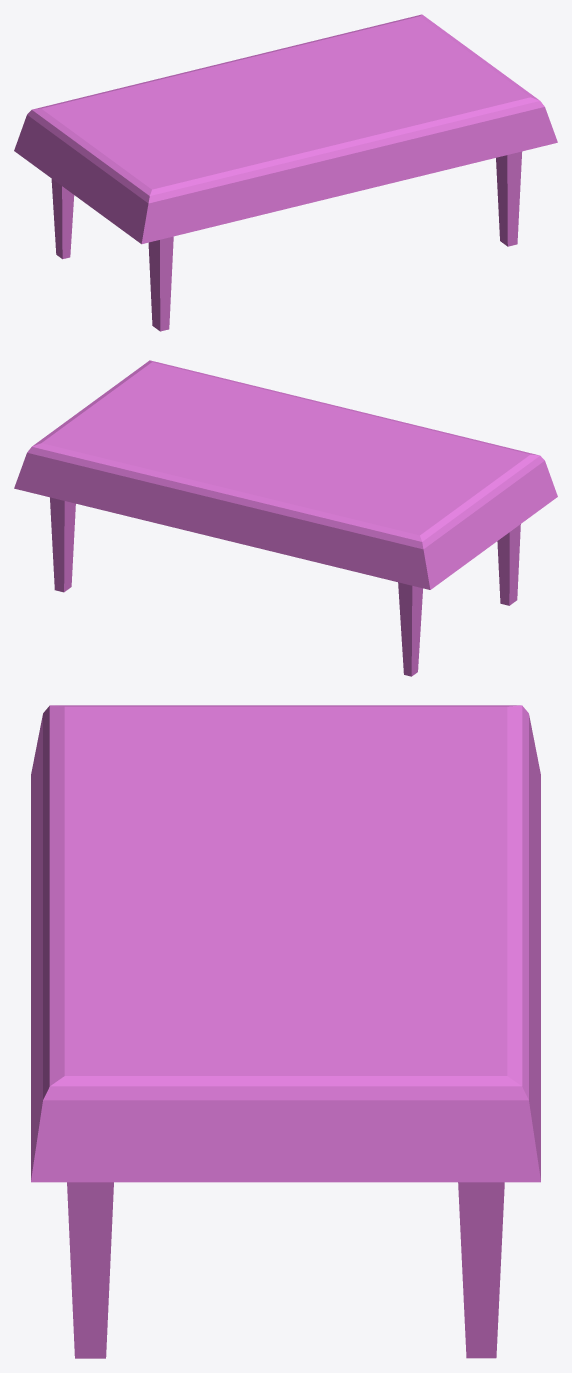
File: MesaRestauranteLow.fbx
3 views of the same model, one above another, from view 1: azimuth 30°, elevation 25°; view 2: azimuth 150°, elevation 25°; view 3: azimuth 270°, elevation 25° (orthographic). The views are drawn at different scales.
Parts seen in each view (by area): view 1: Plane.007; view 2: Plane.007; view 3: Plane.007.
Part boxes in pixels (<box>): Plane.007: <box>14,14,557,331</box>; Plane.007: <box>14,360,557,676</box>; Plane.007: <box>31,705,540,1358</box>.
Size of the model in its own units: 258 by 86.63 by 137.
